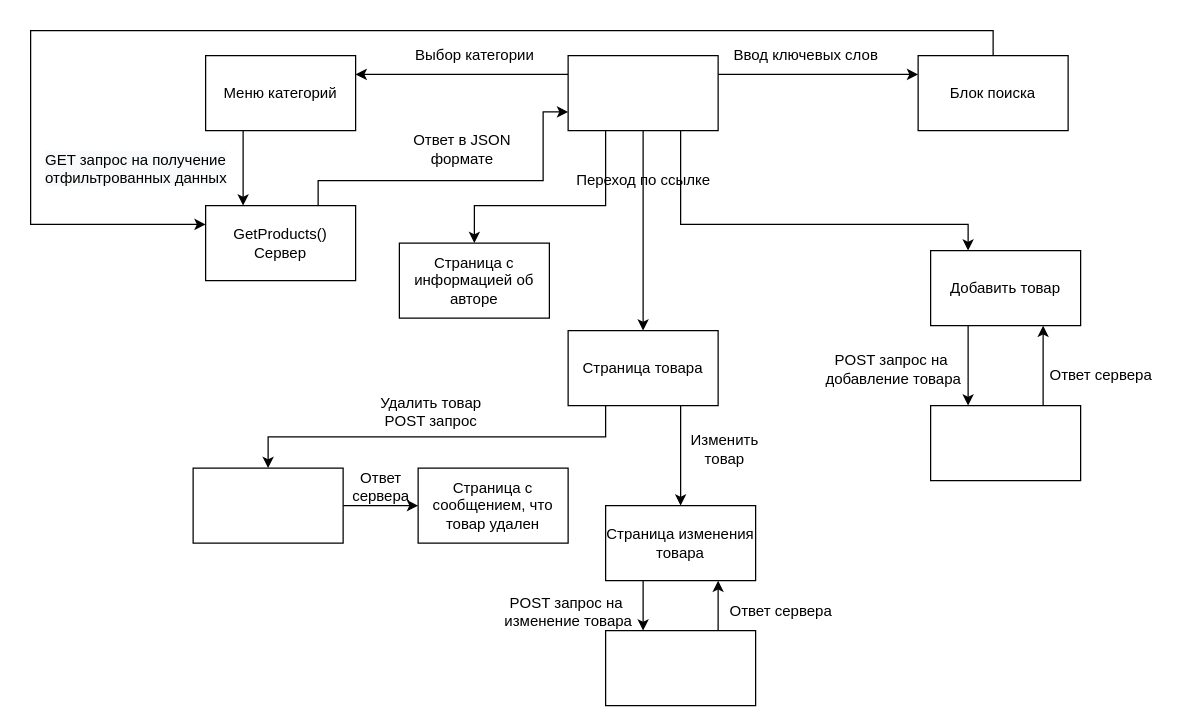
Image size: 1185x728. Some labels were removed from this diagram. Here are the shapes that lost their labels. From the top down, the centre of each, then its label:
At (642,92): "Главная страница".
At (1005,442): "AddProduct() Сервер".
At (267,505): "DeleteProduct() Сервер".
At (680,667): "UpdateProduct() Сервер".
